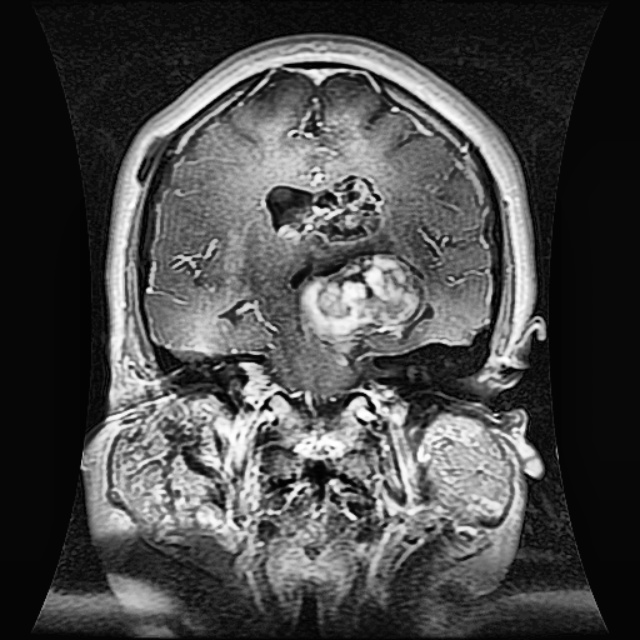Meningioma: (295, 249, 435, 360)
